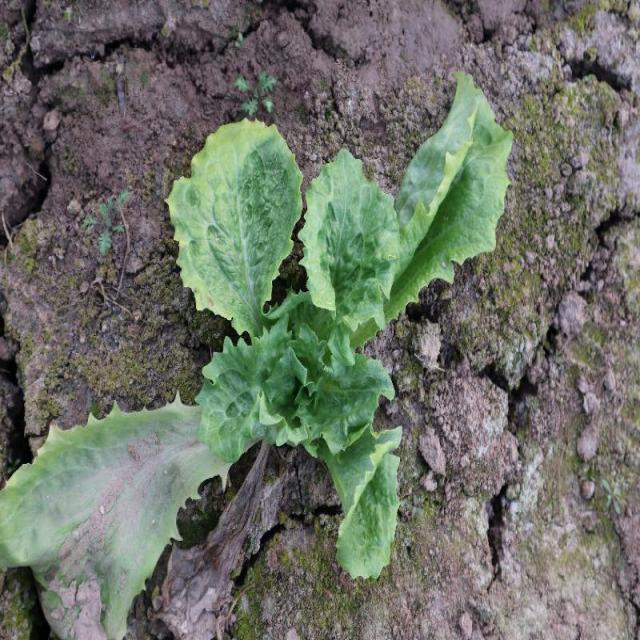crop: (3, 69, 516, 640)
